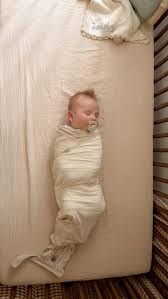baby: (12, 90, 104, 276)
crib: (0, 0, 152, 283)
